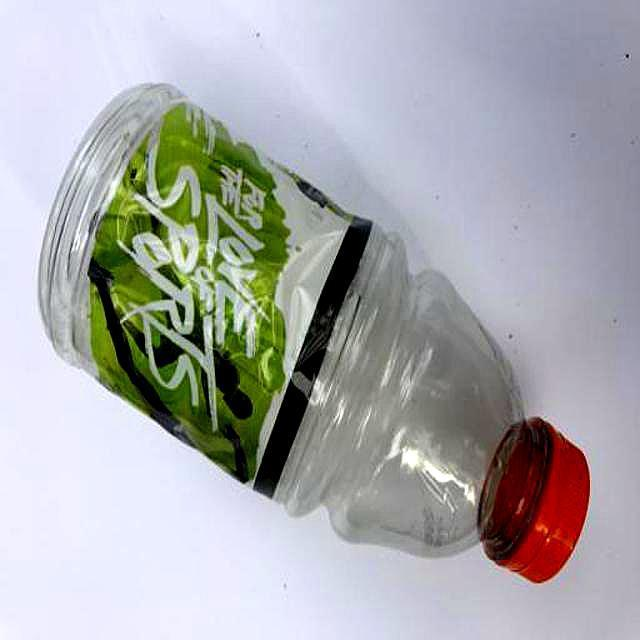Non-biodegradable: (37, 80, 593, 586)
